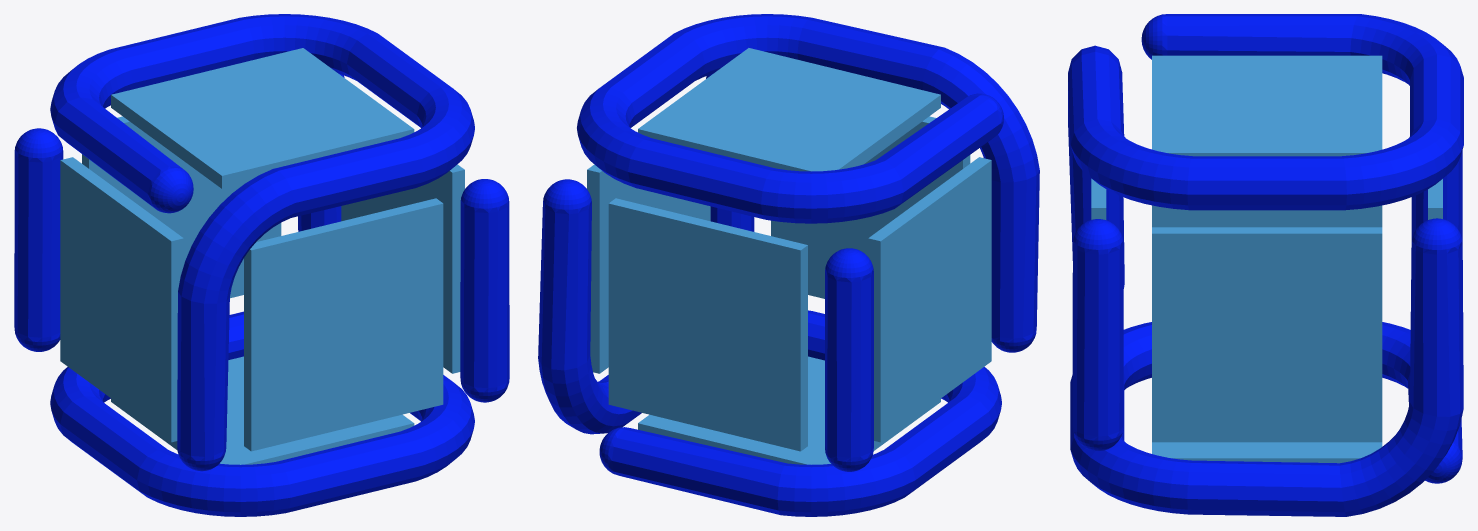
3 views of the same model, side by side, from view 1: azimuth 30°, elevation 25°; view 2: azimuth 150°, elevation 25°; view 3: azimuth 270°, elevation 25° (orthographic). The views are drawn at different scales.
Visible parts, largest first — view 1: 球, 立方体.001, 立方体.002, 立方体.004, 立方体.003, 立方体.005, 立方体; view 2: 球, 立方体, 立方体.002, 立方体.004, 立方体.003, 立方体.005, 立方体.001; view 3: 球, 立方体.003, 立方体.004, 立方体.002, 立方体.005, 立方体.001, 立方体.
Boxes of the visible parts, <box> form: 球: <box>14,14,509,516</box>; 立方体.001: <box>244,198,443,451</box>; 立方体.002: <box>60,157,183,442</box>; 立方体.004: <box>111,48,414,188</box>; 立方体.003: <box>341,164,464,373</box>; 立方体.005: <box>111,356,414,464</box>; 立方体: <box>82,116,281,298</box>; 球: <box>538,14,1039,516</box>; 立方体: <box>608,198,807,451</box>; 立方体.002: <box>868,157,991,442</box>; 立方体.004: <box>638,48,940,171</box>; 立方体.003: <box>587,164,710,373</box>; 立方体.005: <box>638,356,940,464</box>; 立方体.001: <box>771,116,970,298</box>; 球: <box>1068,14,1463,516</box>; 立方体.003: <box>1152,227,1382,442</box>; 立方体.004: <box>1152,55,1382,156</box>; 立方体.002: <box>1152,205,1382,227</box>; 立方体.005: <box>1152,442,1382,463</box>; 立方体.001: <box>1091,178,1106,219</box>; 立方体: <box>1428,179,1442,219</box>.
Bounding box in the file's own units: 198 × 197 × 198.
